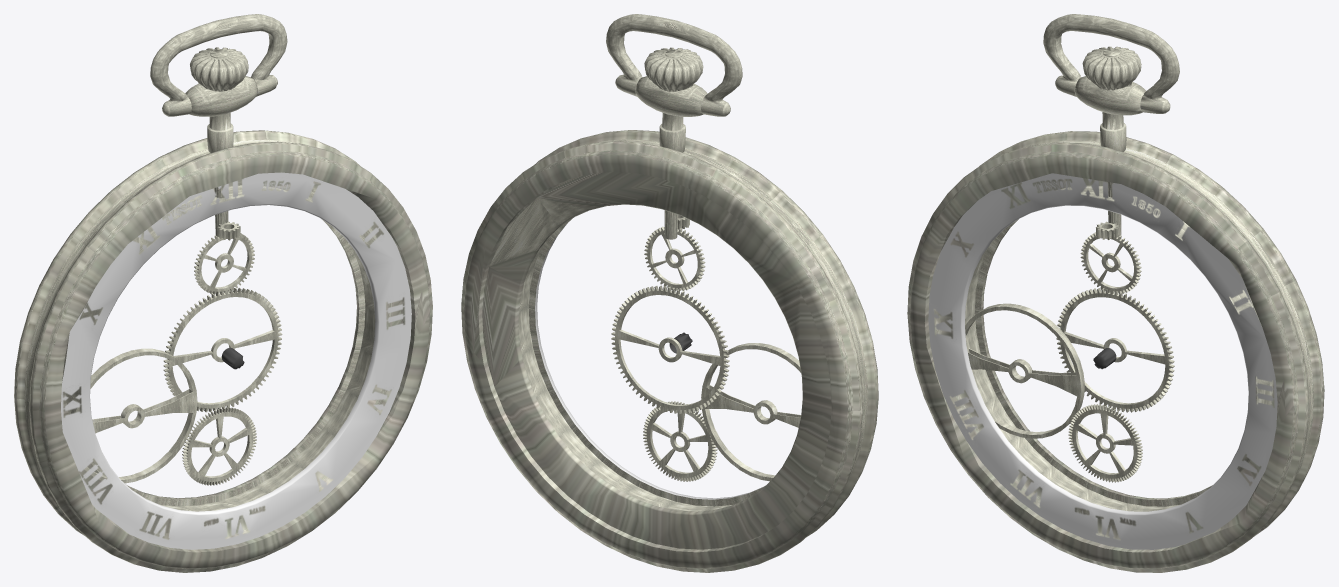
The model's file is finalstoppy.glb.
3 renders of one model, left to right at view 1: azimuth 30°, elevation 25°; view 2: azimuth 150°, elevation 25°; view 3: azimuth 330°, elevation 25°, orthographic.
Parts seen in each view (by area): view 1: no face-Mat (×2), Cylinder (×2), NTcog 11, cog 7, cog 8, Cog 13; view 2: no face-Mat (×2), Cylinder (×2), cog 7, NTcog 11, cog 8, Cog 13; view 3: no face-Mat (×2), Cylinder (×2), NTcog 11, cog 7, cog 8, Cog 13.
Boxes of the visible parts, <box> form: no face-Mat (×2): <box>14,130,432,572</box>; Cylinder (×2): <box>150,14,287,236</box>; NTcog 11: <box>70,348,197,483</box>; cog 7: <box>163,287,282,412</box>; cog 8: <box>182,407,256,485</box>; Cog 13: <box>194,233,254,294</box>; no face-Mat (×2): <box>461,130,878,572</box>; Cylinder (×2): <box>606,14,742,239</box>; cog 7: <box>611,285,729,413</box>; NTcog 11: <box>701,343,801,481</box>; cog 8: <box>643,401,717,481</box>; Cog 13: <box>644,226,705,291</box>; no face-Mat (×2): <box>907,131,1324,572</box>; Cylinder (×2): <box>1043,14,1179,236</box>; NTcog 11: <box>965,303,1084,438</box>; cog 7: <box>1056,288,1174,412</box>; cog 8: <box>1068,404,1142,482</box>; Cog 13: <box>1080,232,1141,294</box>.
Size of what is drawn, in the model's own units: 6.13 by 7.91 by 0.8196.
3 materials, 2 textured.
